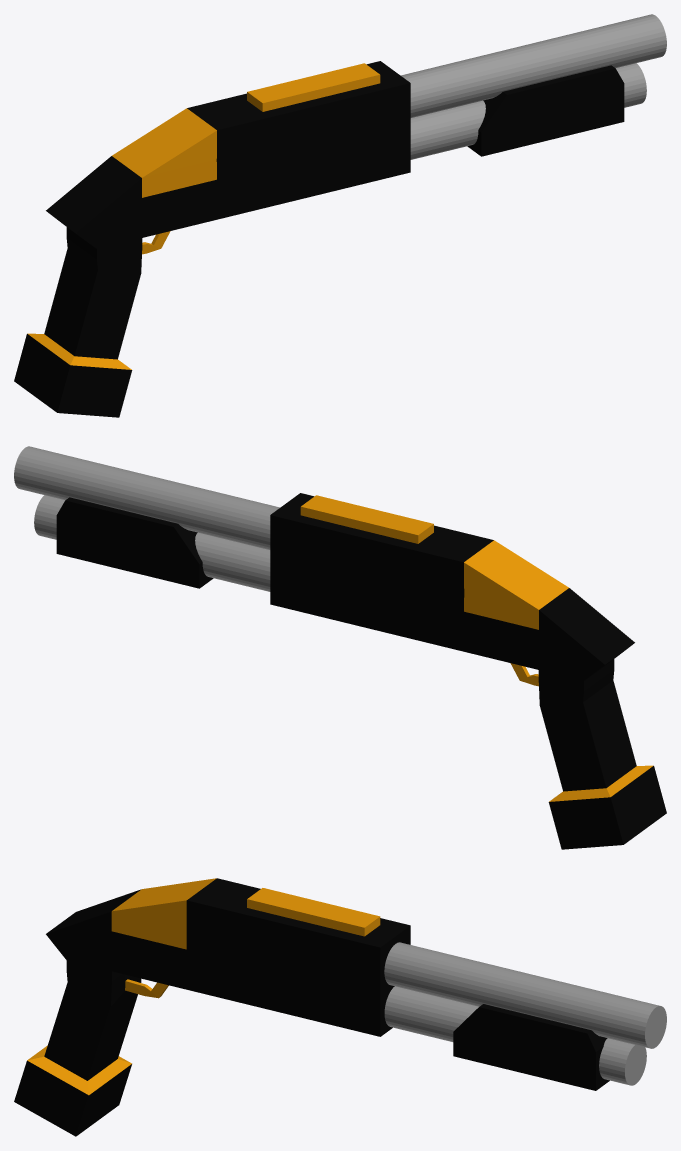
The model's file is shotgun.fbx_Scene.fbx.
The picture shows the model from 3 angles, top to bottom: view 1: azimuth 30°, elevation 25°; view 2: azimuth 150°, elevation 25°; view 3: azimuth 330°, elevation 25°; orthographic projection.
Parts seen in each view (by area): view 1: Cube.001, Cylinder.001, Cube, Cylinder, Cube.002; view 2: Cube.001, Cylinder.001, Cube, Cylinder, Cube.002; view 3: Cube.001, Cylinder.001, Cube, Cylinder, Cube.002.
Part boxes in pixels (box(x1,y1,x2,y2)): Cube.001: box(14, 61, 410, 417); Cylinder.001: box(401, 14, 666, 117); Cube: box(467, 65, 624, 156); Cylinder: box(410, 63, 646, 159); Cube.002: box(247, 63, 380, 111); Cube.001: box(270, 493, 666, 849); Cylinder.001: box(14, 446, 279, 549); Cube: box(56, 497, 213, 588); Cylinder: box(34, 495, 270, 591); Cube.002: box(300, 495, 433, 543); Cube.001: box(14, 878, 410, 1136); Cylinder.001: box(384, 942, 666, 1048); Cube: box(453, 1004, 609, 1090); Cylinder: box(384, 986, 646, 1085); Cube.002: box(247, 888, 380, 936).
Size of the model in its own units: 1510 by 619 by 183.
